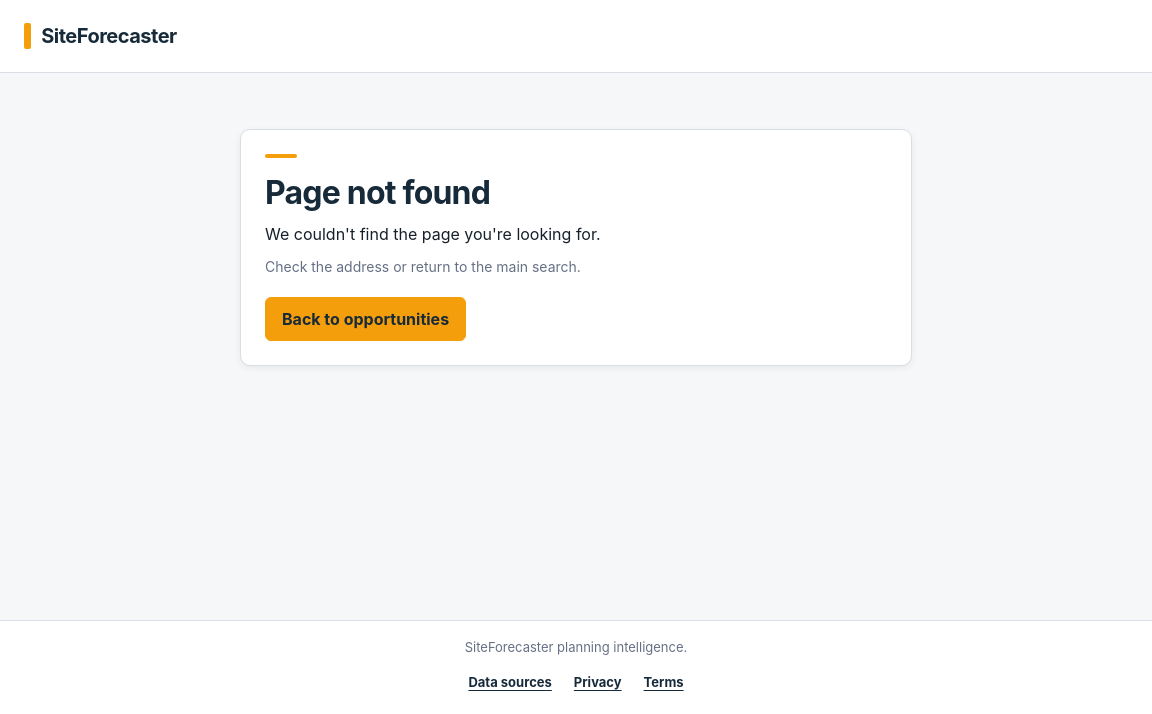
it: App › returns from the 404 page through the existing client-side navigation
The image size is (1152, 714).
Click the link "Back to opportunities" at (366,319), box x1=265 y1=297 x2=466 y2=341
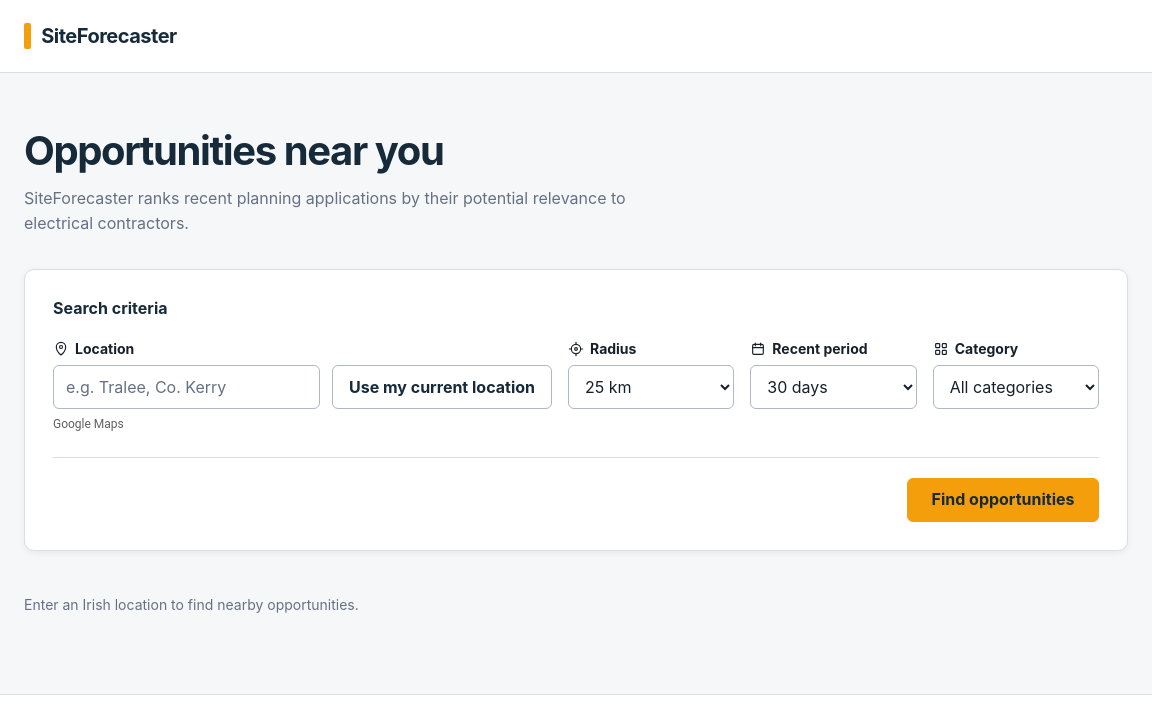
Now the text "Enter an Irish location to find nearby opportunities." is shown, box x1=24 y1=596 x2=359 y2=613
